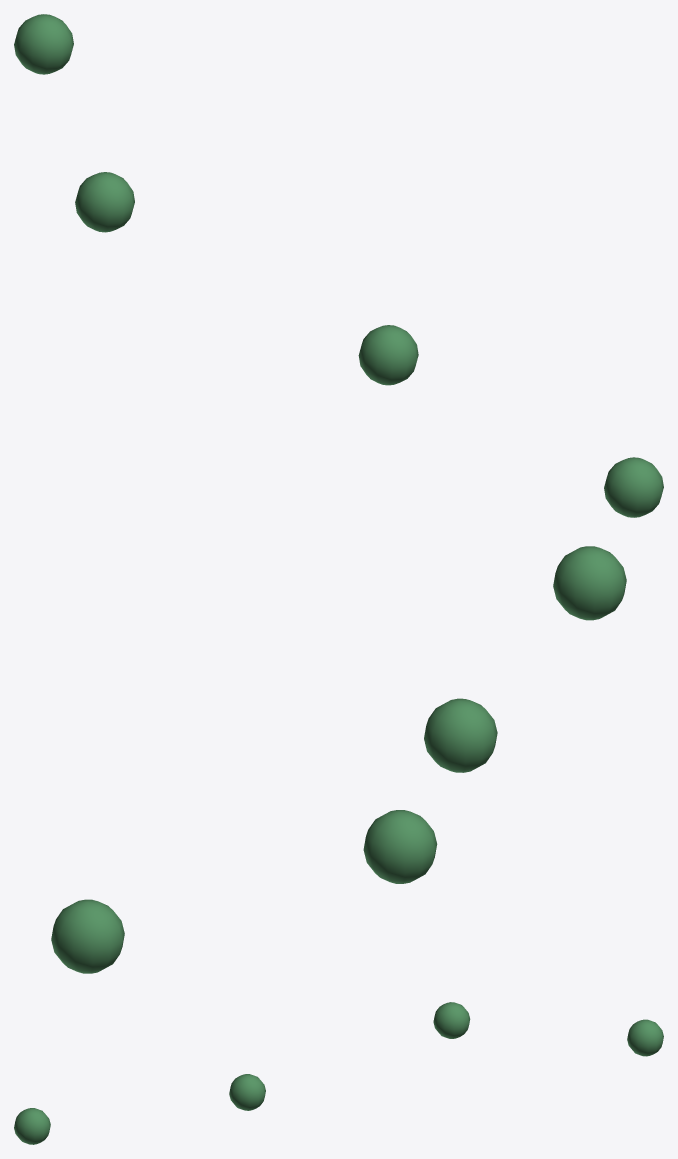
3 renders of one model, top to bottom at view 1: azimuth 30°, elevation 25°; view 2: azimuth 150°, elevation 25°; view 3: azimuth 270°, elevation 25°, orthographic. The views are drawn at different scales.
Parts seen in each view (by area): view 1: 右侧腹股沟浅淋巴结下群; view 2: 右侧腹股沟浅淋巴结下群; view 3: 右侧腹股沟浅淋巴结下群.
Boxes of the visible parts, left/top/right/bottom form: 右侧腹股沟浅淋巴结下群: left=14, top=14, right=663, bottom=517; 右侧腹股沟浅淋巴结下群: left=51, top=546, right=626, bottom=973; 右侧腹股沟浅淋巴结下群: left=14, top=1002, right=663, bottom=1144.
Size of the model in its own units: 0.0175 by 0.0108 by 0.067.
